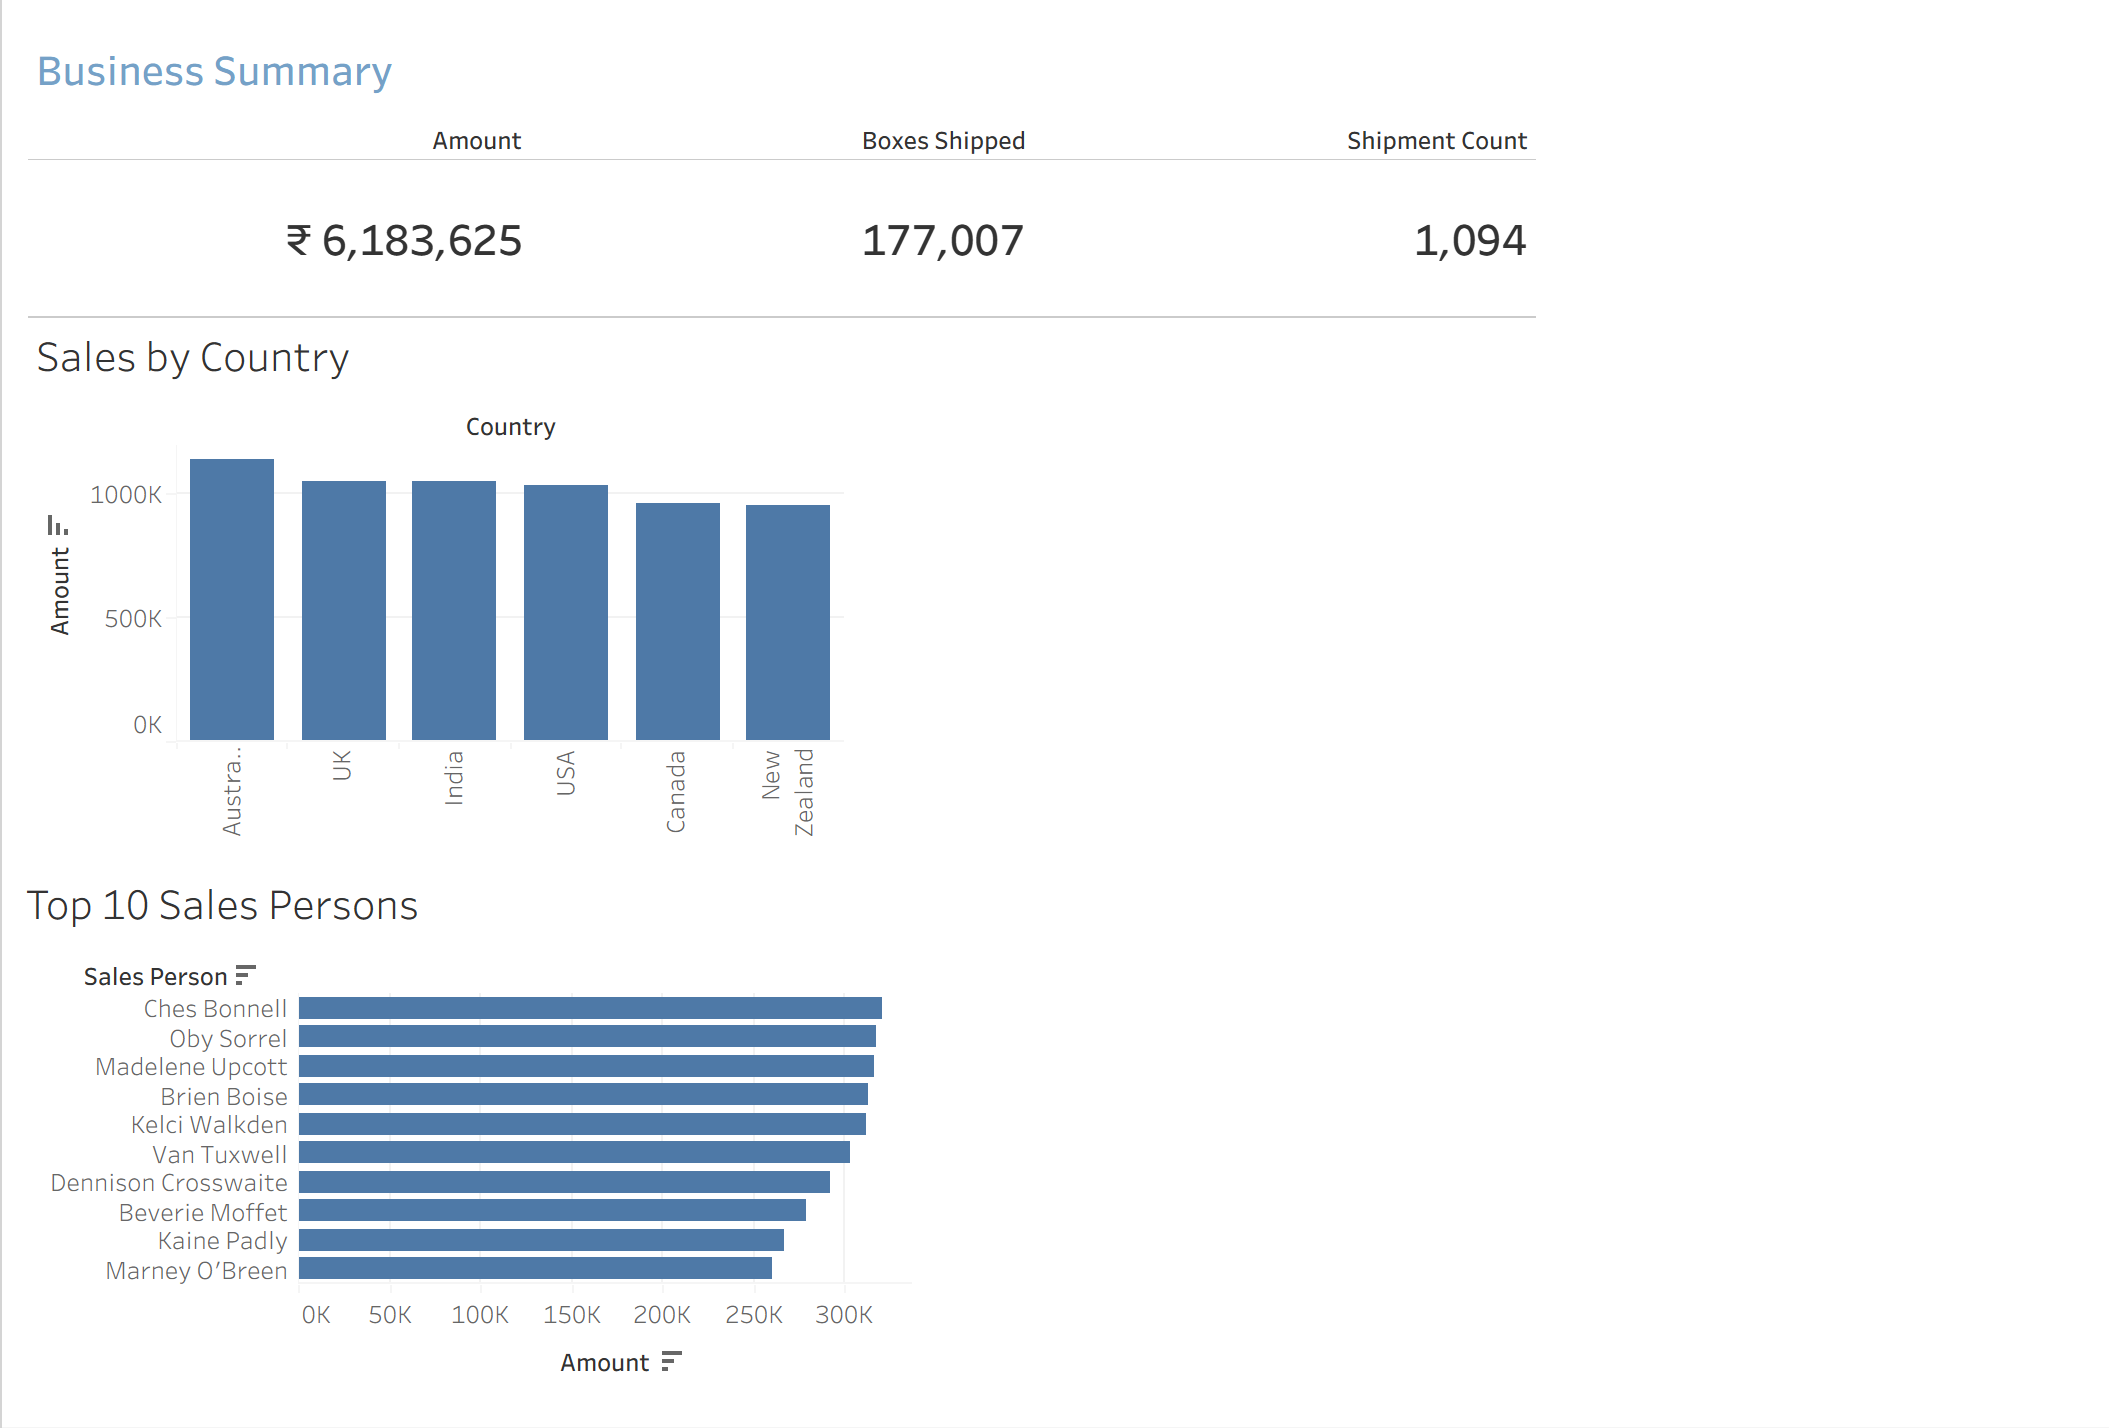

What the dashboard file says about the page in this screenshot:
{"tool":"tableau","page":{"name":"Dashboard 1","canvas":[1000,1000],"units":"permille","ordinal":0},"visuals":[{"type":"worksheet","title":"Sheet 3","mark":"Automatic","box":[11.9,26.5,715.5,199.7]},{"type":"worksheet","title":"Sheet 1","mark":"Automatic","rows":["Amount"],"cols":["Country"],"box":[11.9,226.3,386.7,363.1]},{"type":"worksheet","title":"Sheet 2","mark":"Automatic","rows":["Sales Person"],"cols":["Amount"],"box":[7.9,608.9,423.9,367.3]}]}

Visuals, with their boxes on the dashboard's canvas, which has no fixed pixel size, in thousandths of its width and height (x1, y1, x2, y2). These are canvas units, not pixel positions in the 2109x1428 screenshot, which may show the page scaled, cropped or inside an application window:
"Sheet 3" worksheet: (x1=12, y1=26, x2=727, y2=226)
"Sheet 1" worksheet: (x1=12, y1=226, x2=399, y2=589)
"Sheet 2" worksheet: (x1=8, y1=609, x2=432, y2=976)
